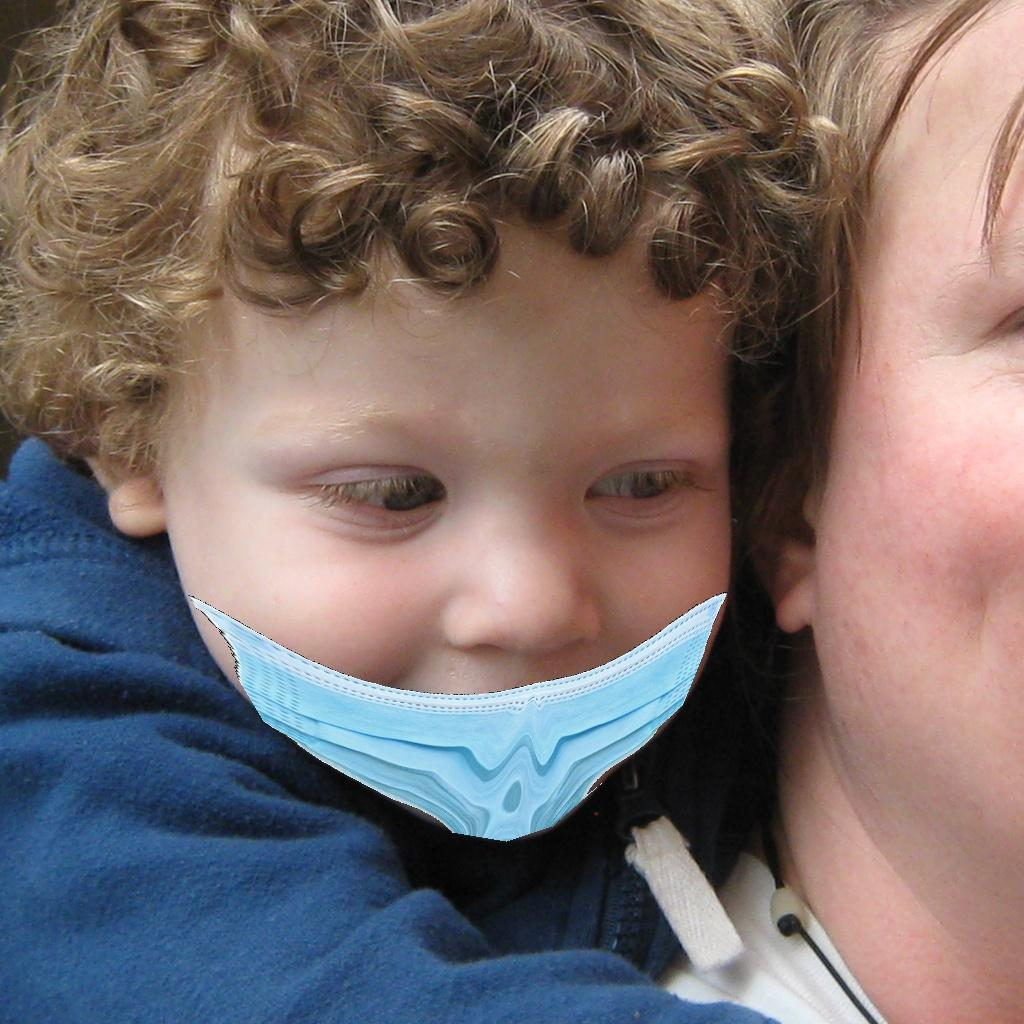Máscara Incorreta: (201, 307, 756, 809)
